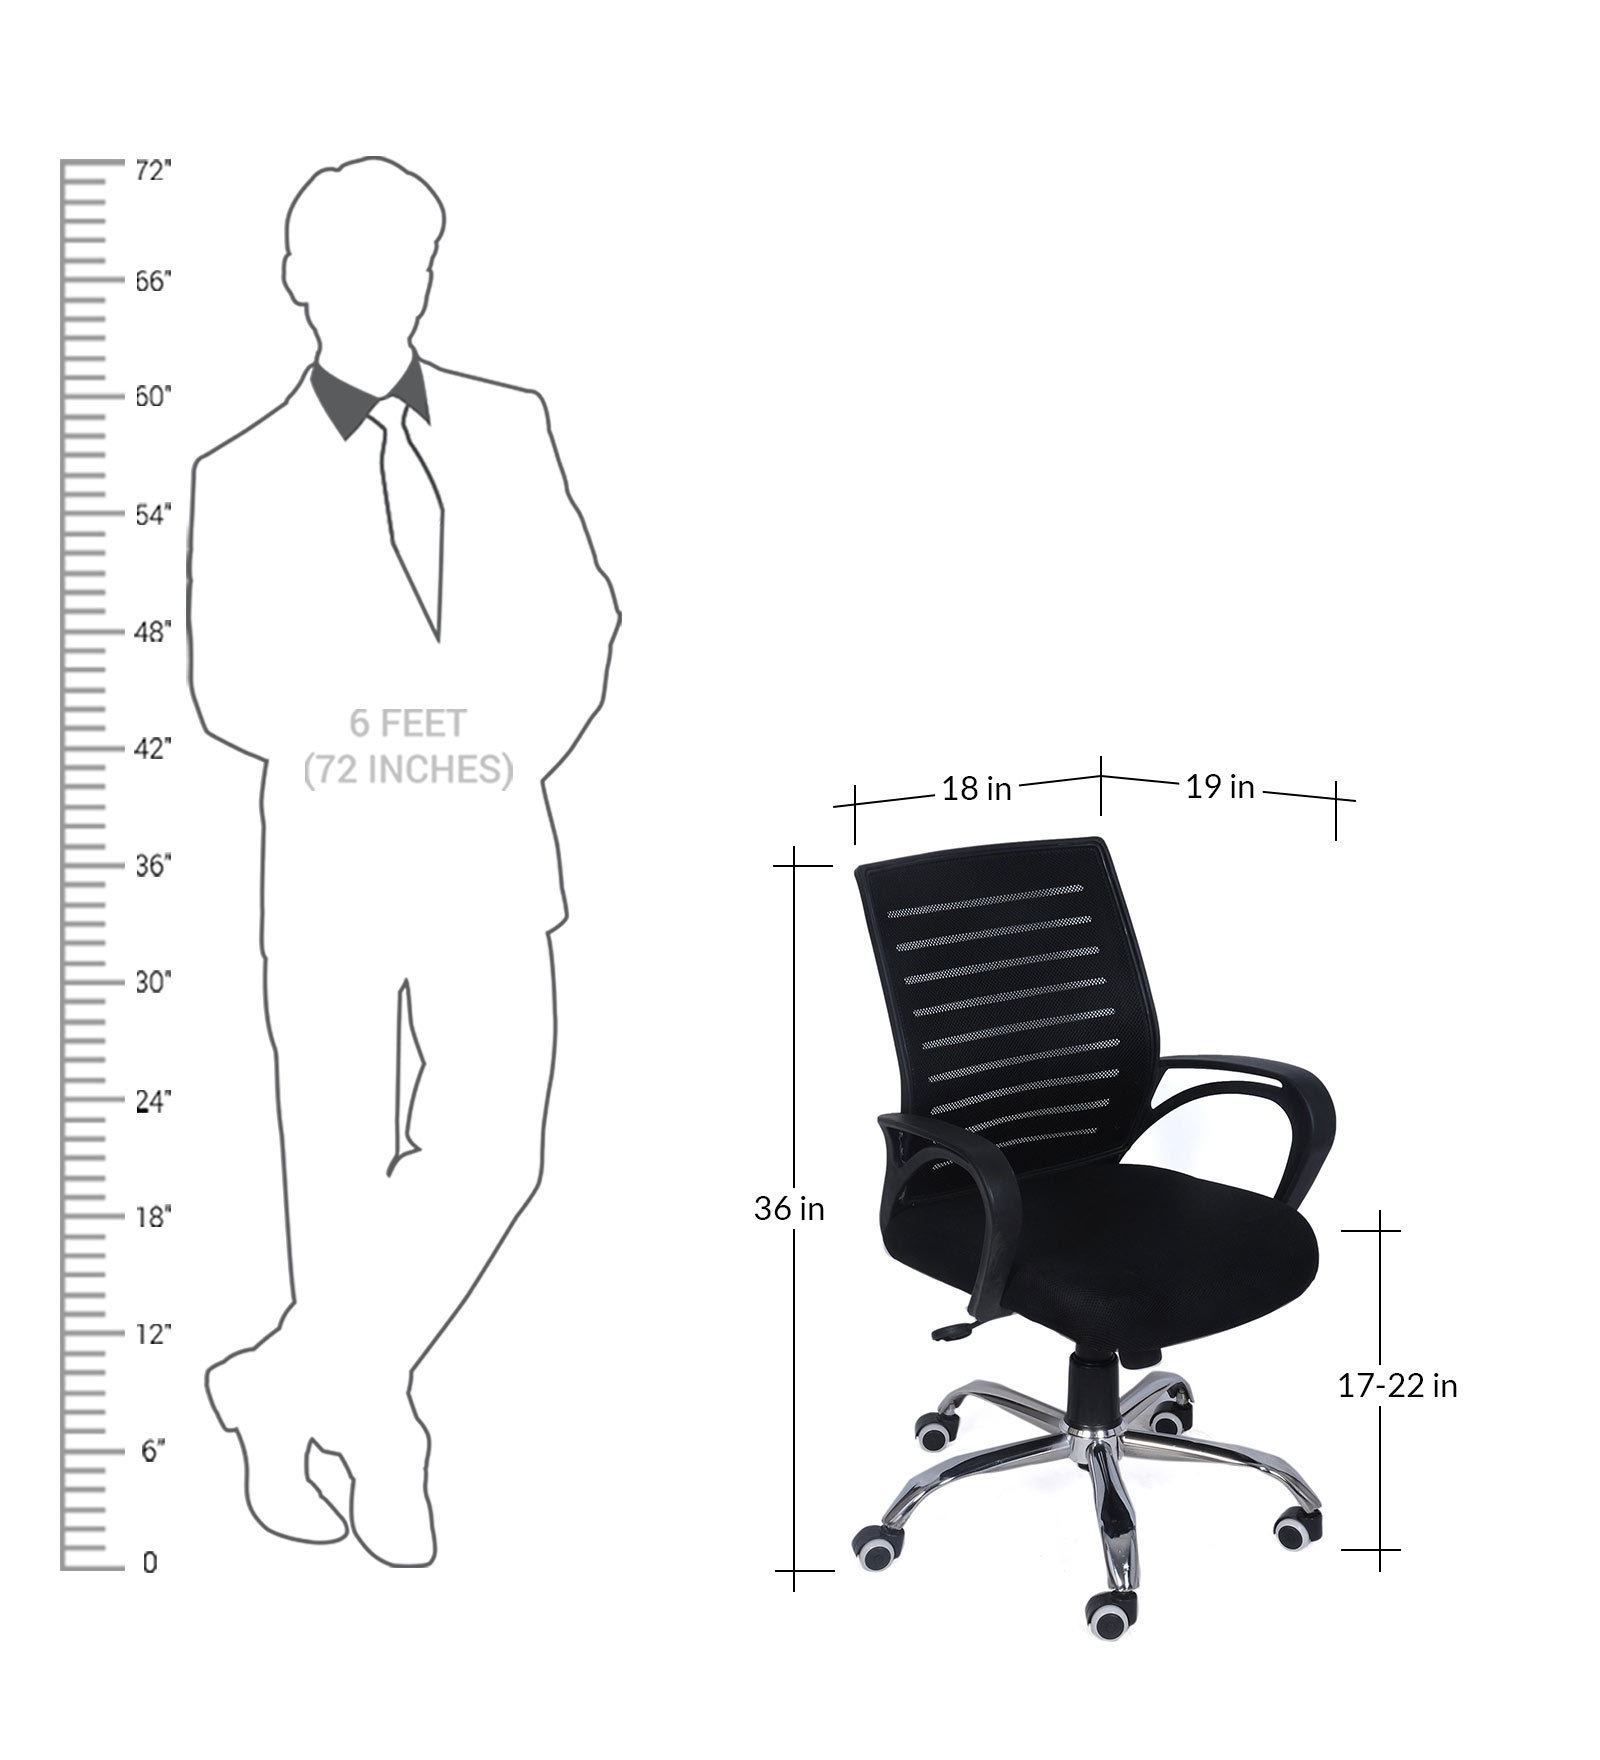Classical Medium Back Ergonomic Chair by Furniease: (809, 828, 1346, 1610)
